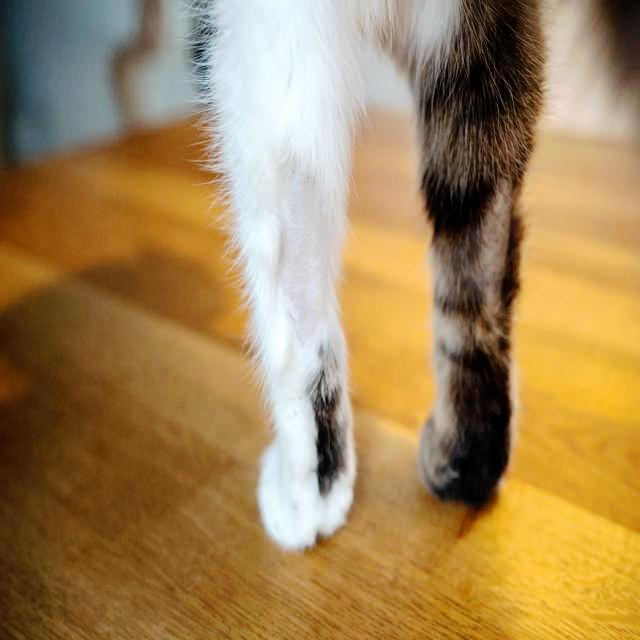hairloss: (272, 150, 342, 358)
